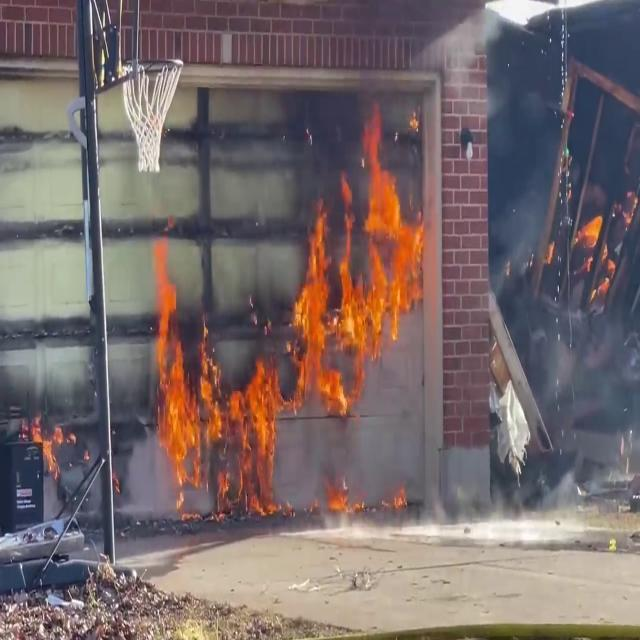Fire: (286, 113, 426, 412), (147, 252, 286, 524), (26, 406, 70, 478)
